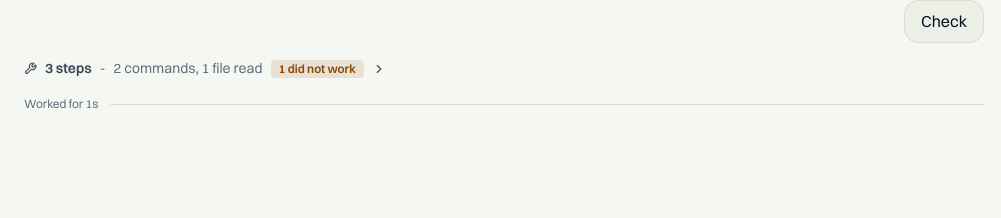
Scenario: turn grouping › keeps tool group collapsed when tools are running or failed and expands only on click
Later steps or results of the test are not shown.
Expected: the text "1 did not work" is shown, [271,60,364,78]
Click the button with test id "tool-group-toggle".
click(205, 69)  # box [16,55,394,83]
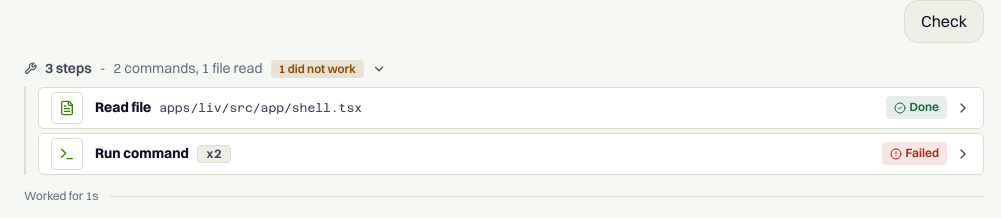
Result: the button with test id "tool-group-toggle" is expanded at [16,55,394,83]
Result: the element with test id "tool-group-list" is shown at [24,87,984,175]
Result: the text with test id "tool-card-repeat-t3" reads "x2" at [197,145,230,163]
